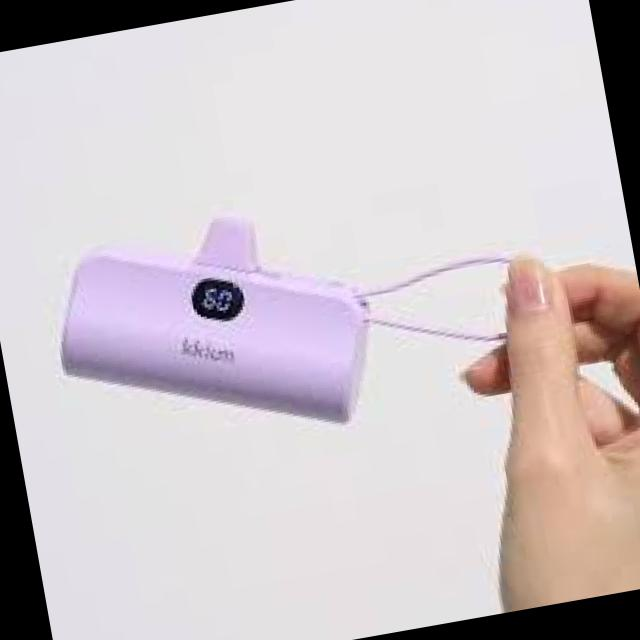power_bank: (41, 198, 394, 468)
